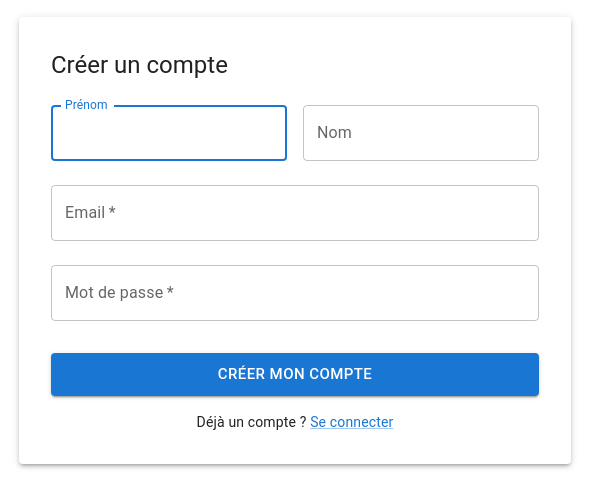
RegisterPage › disables the submit button while loading
Click the button "Créer mon compte" at (295, 375), box [51,353,539,396]
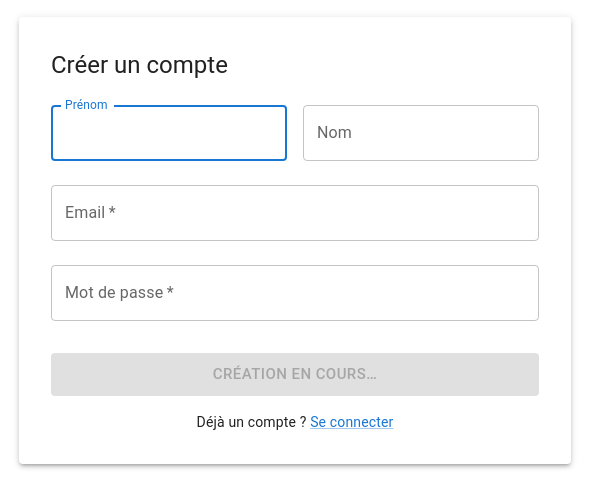
Expected: the button "Création en cours…" is disabled, [51,353,539,396]
